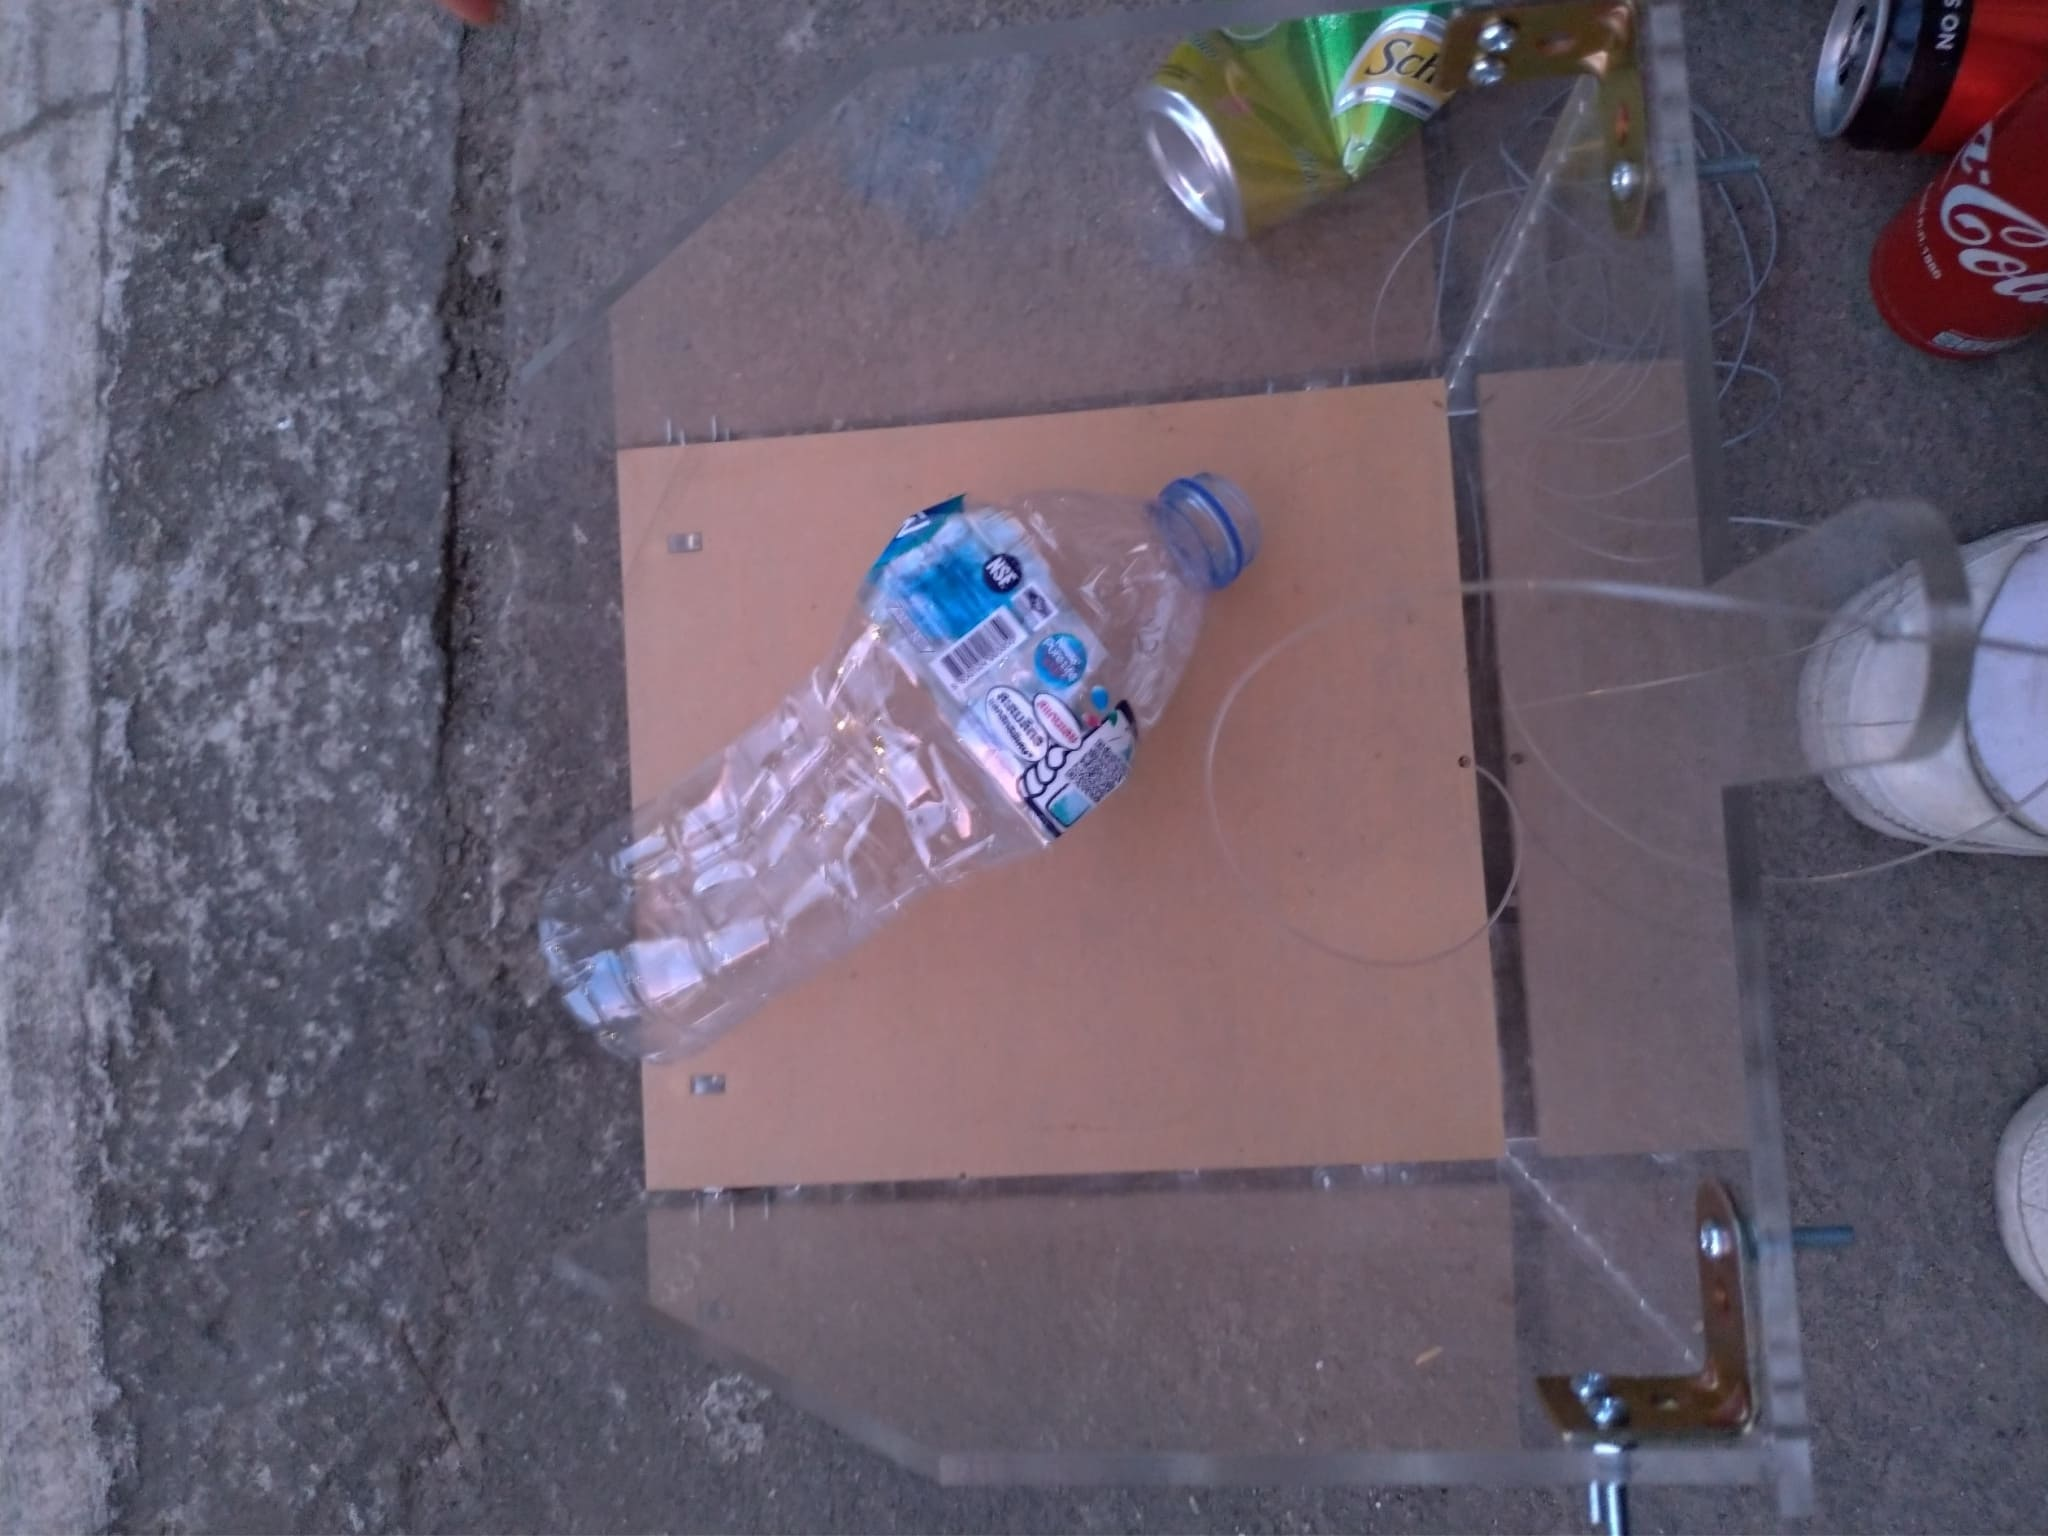AlCan: (1130, 10, 1450, 240), (1872, 103, 2046, 365), (1809, 2, 1992, 157)
PlasticBottle: (531, 470, 1268, 1079)
